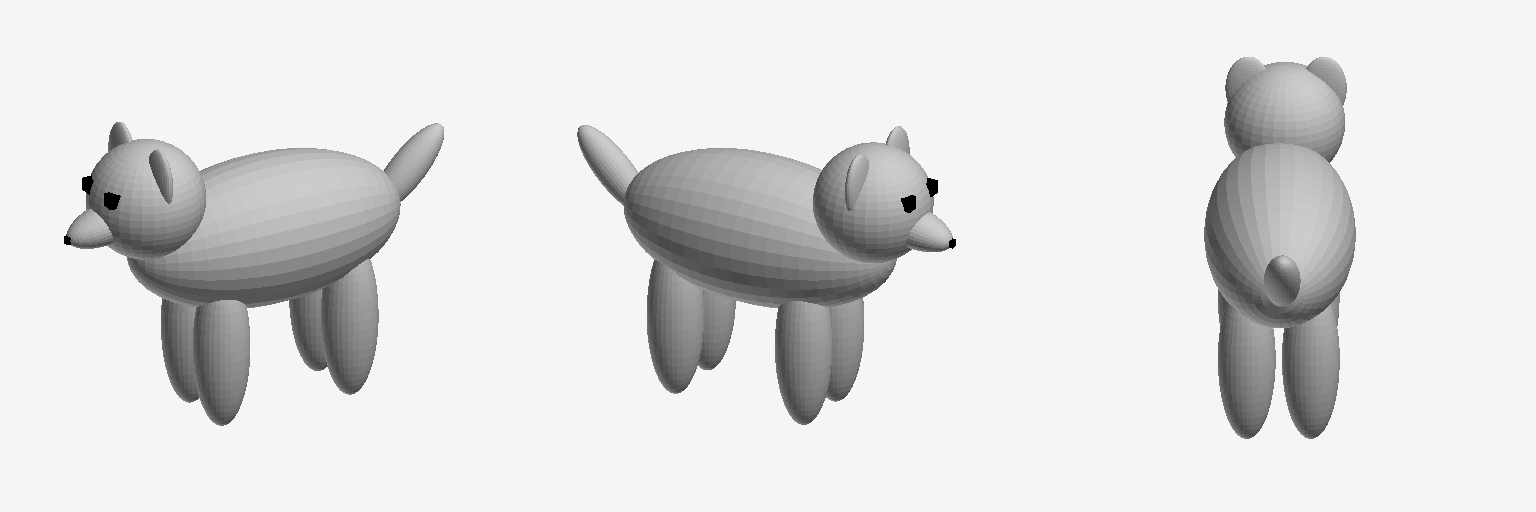
The model's file is Peperrito.obj.
3 renders of one model, left to right at view 1: azimuth 30°, elevation 25°; view 2: azimuth 150°, elevation 25°; view 3: azimuth 270°, elevation 25°, orthographic.
Parts seen in each view (by area): view 1: Sphere.004, Sphere_Sphere.009, Sphere.000_Sphere.005, Sphere.001_Sphere.006, Sphere.002, Sphere.005_Sphere.008, Sphere.003_Sphere.007, Sphere.006_Sphere.010, Sphere.008_Sphere.013; view 2: Sphere.004, Sphere_Sphere.009, Sphere.002, Sphere.003_Sphere.007, Sphere.000_Sphere.005, Sphere.005_Sphere.008, Sphere.001_Sphere.006, Sphere.006_Sphere.010, Sphere.007_Sphere.011; view 3: Sphere.004, Sphere_Sphere.009, Sphere.001_Sphere.006, Sphere.003_Sphere.007, Sphere.005_Sphere.008, Sphere.007_Sphere.011, Sphere.008_Sphere.013.
Boxes of the visible parts, x1,y1,x2,y2 form: Sphere.004: [127, 148, 400, 307]; Sphere_Sphere.009: [86, 139, 205, 259]; Sphere.000_Sphere.005: [193, 300, 249, 425]; Sphere.001_Sphere.006: [321, 259, 378, 394]; Sphere.002: [161, 298, 198, 402]; Sphere.005_Sphere.008: [384, 123, 443, 201]; Sphere.003_Sphere.007: [289, 289, 327, 370]; Sphere.006_Sphere.010: [66, 209, 112, 248]; Sphere.008_Sphere.013: [149, 149, 172, 203]; Sphere.004: [623, 148, 896, 307]; Sphere_Sphere.009: [813, 142, 933, 262]; Sphere.002: [775, 301, 832, 424]; Sphere.003_Sphere.007: [647, 260, 703, 393]; Sphere.000_Sphere.005: [826, 298, 863, 401]; Sphere.005_Sphere.008: [577, 125, 637, 204]; Sphere.001_Sphere.006: [698, 290, 735, 369]; Sphere.006_Sphere.010: [906, 212, 952, 251]; Sphere.007_Sphere.011: [845, 154, 868, 210]; Sphere.004: [1204, 143, 1355, 327]; Sphere_Sphere.009: [1224, 62, 1344, 162]; Sphere.001_Sphere.006: [1218, 302, 1275, 438]; Sphere.003_Sphere.007: [1282, 304, 1339, 438]; Sphere.005_Sphere.008: [1264, 255, 1300, 305]; Sphere.007_Sphere.011: [1306, 57, 1346, 104]; Sphere.008_Sphere.013: [1225, 57, 1265, 101].
Bounding box in the file's own units: 17.8 × 13.04 × 6.21.